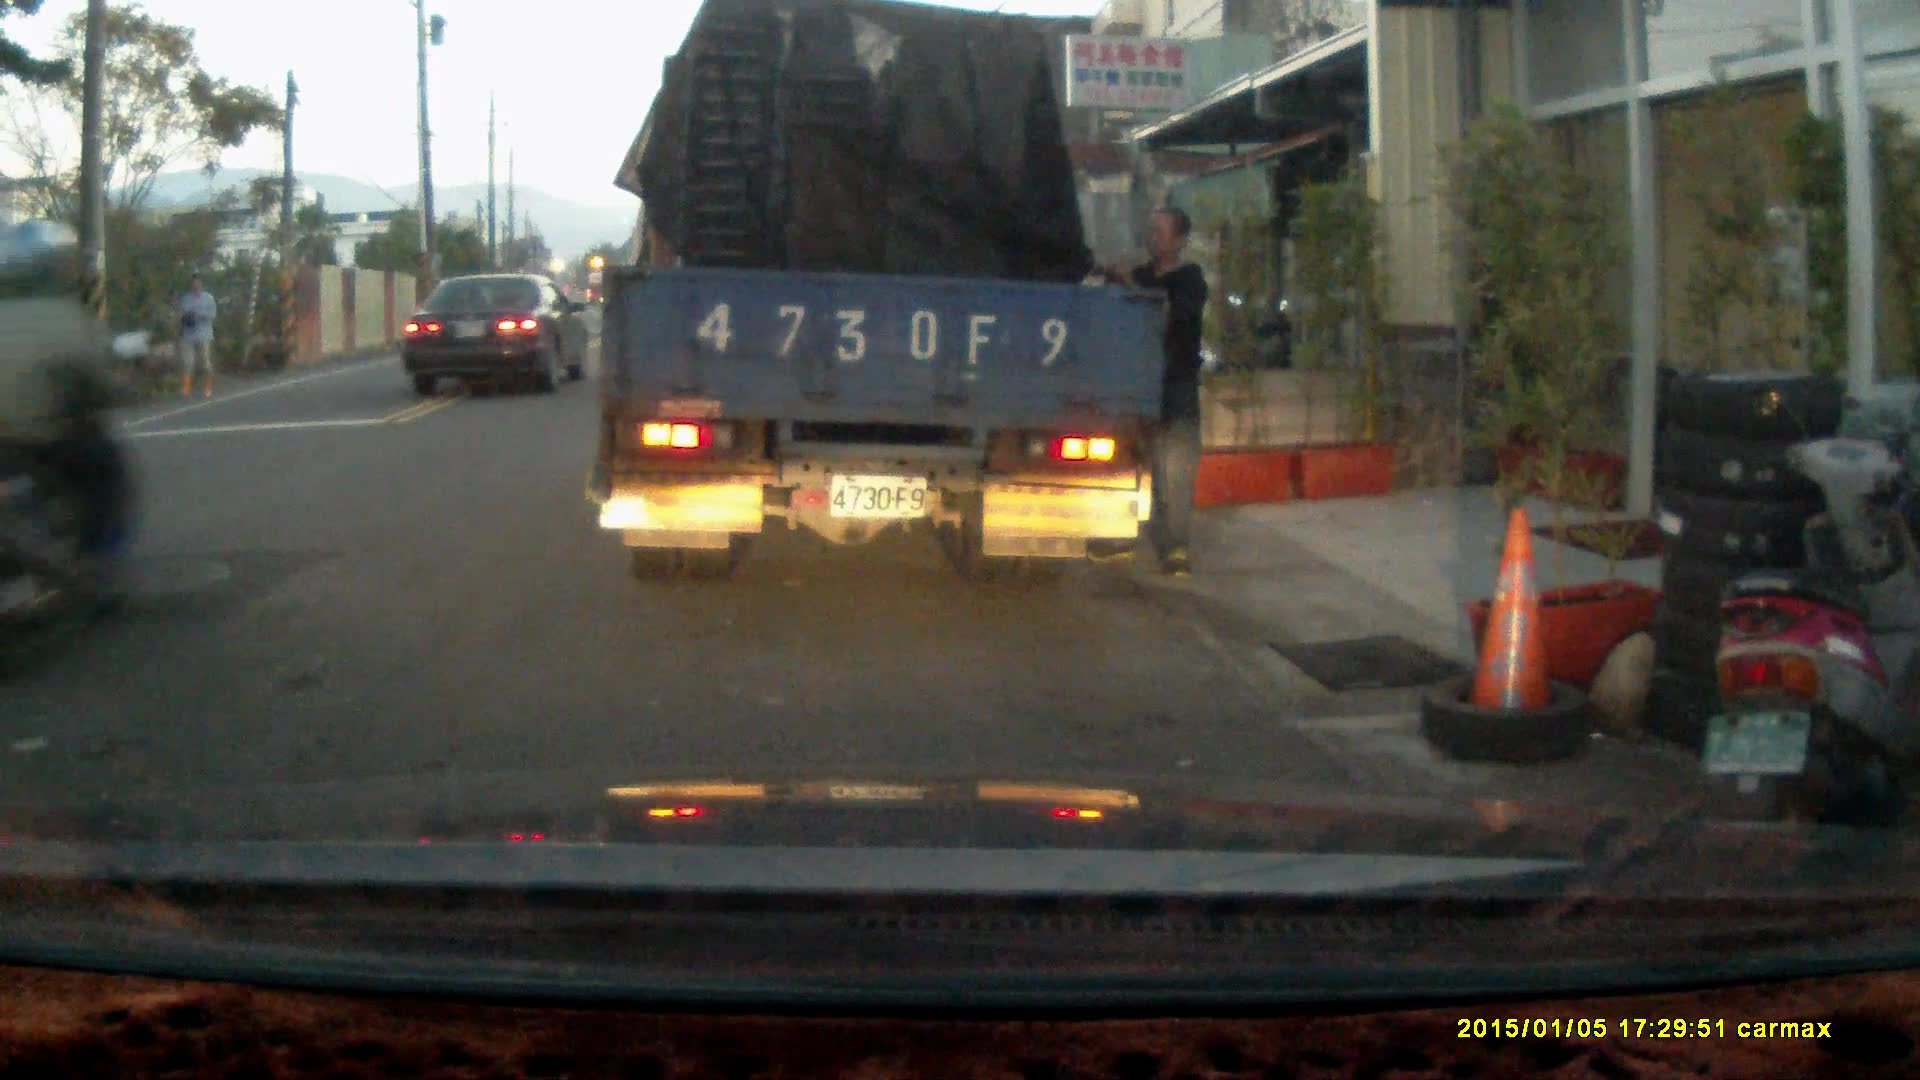pedestrian: (1086, 205, 1213, 580), (174, 273, 220, 405)
rider: (0, 215, 142, 693)
vehicle: (600, 23, 1168, 572), (408, 270, 590, 401)
